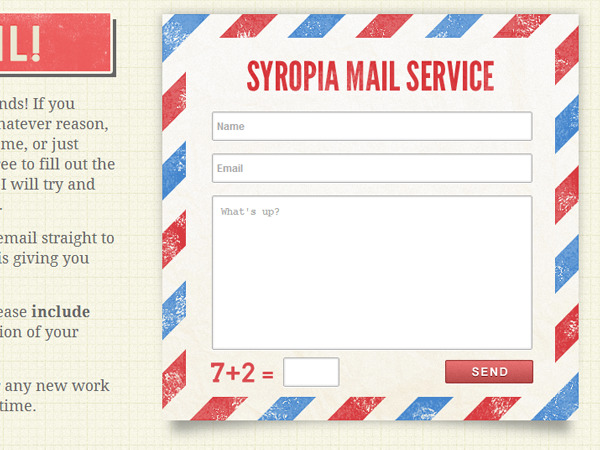button: (444, 359, 534, 384)
field: (212, 195, 533, 349), (211, 111, 533, 142), (212, 153, 533, 183), (282, 357, 340, 387)
